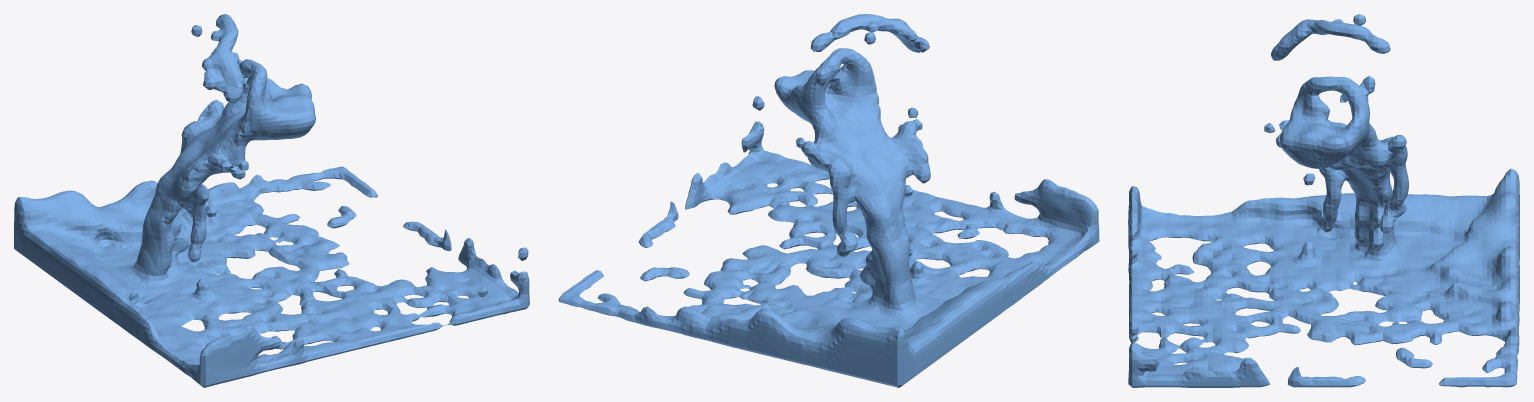
The model's file is water_0060.glb.
3 renders of one model, left to right at view 1: azimuth 30°, elevation 25°; view 2: azimuth 150°, elevation 25°; view 3: azimuth 270°, elevation 25°, orthographic. The views are drawn at different scales.
Parts seen in each view (by area): view 1: Water_0060; view 2: Water_0060; view 3: Water_0060.
Boxes of the visible parts, box(x1,y1,x2,y2) form: Water_0060: box(14, 14, 529, 387); Water_0060: box(558, 14, 1099, 387); Water_0060: box(1128, 14, 1519, 387).
Size of the model in its own units: 4.83 by 3.63 by 4.83.
